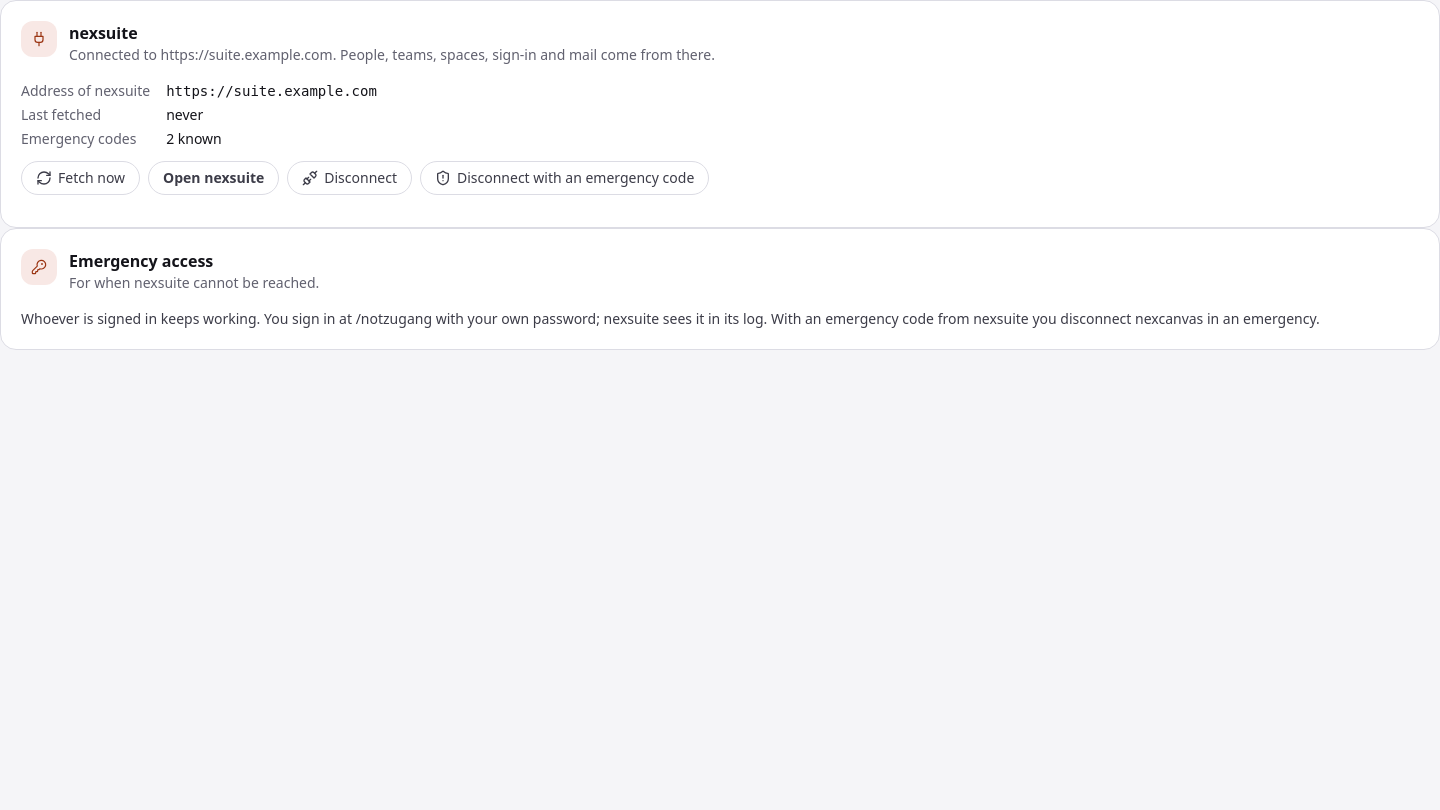
Test: disconnecting › says for a connection from before that the operators stay
The image size is (1440, 810).
Click the button "Disconnect".
click(350, 178)  # box [287,161,412,195]
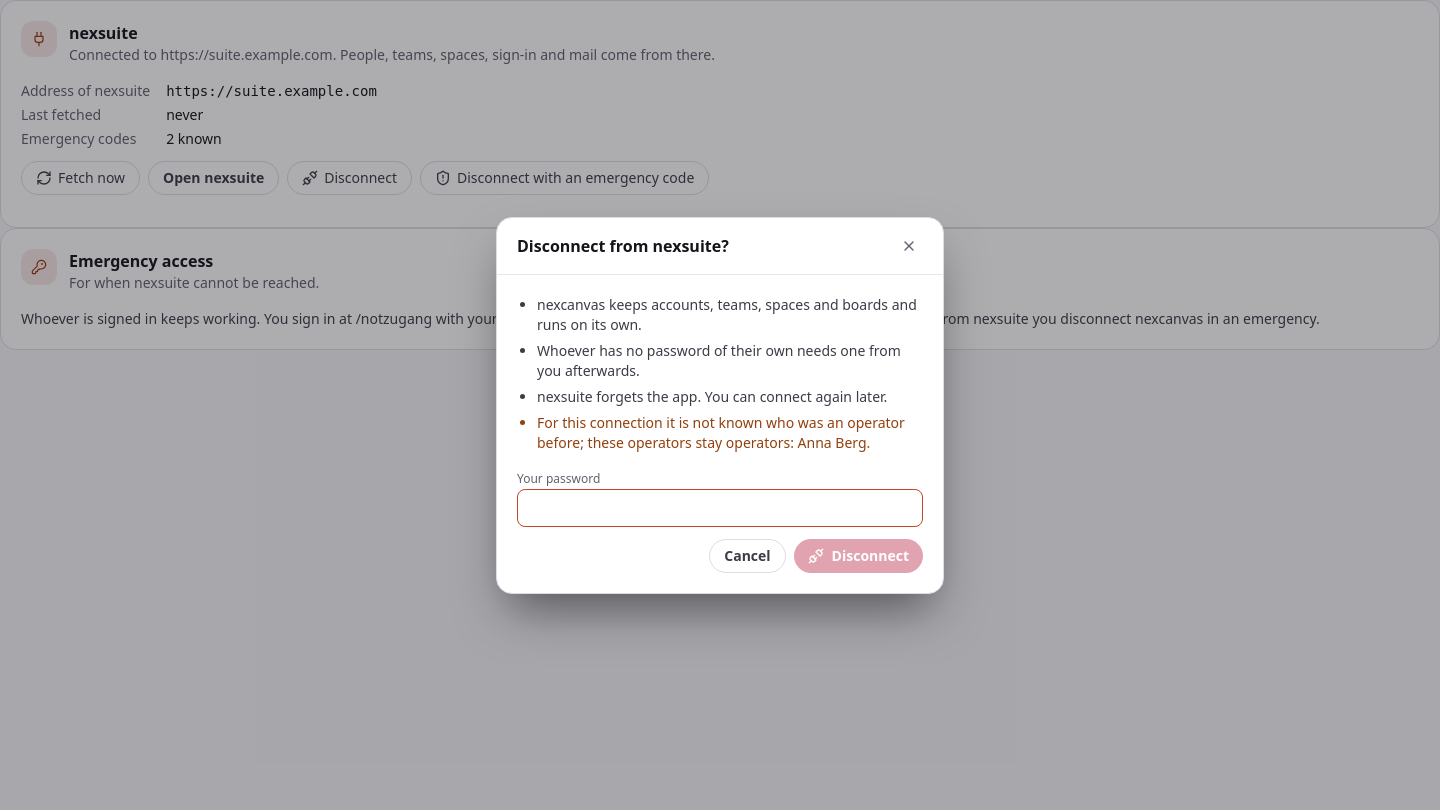
Check: the list item with test id "leave-operators-unknown" shows "For this connection it is not known who was an operator before; these operators stay operators: Anna Berg.", box [537,412,905,452]
